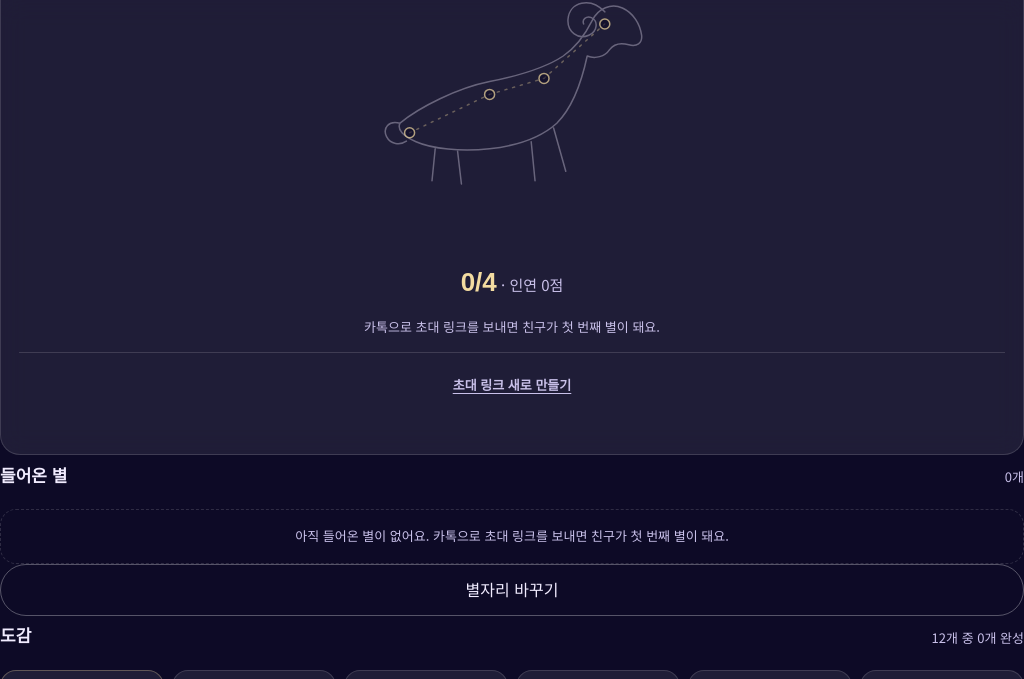
Test case: BondsView invites in one go (owner 2026-10-23, the 2026-10-02 decision: no codes to copy, make or type) › 초대 링크 새로 만들기 asks first, then makes a new link and loads the page again so the buttons send it
(page scrolled)
Click the button "초대 링크 새로 만들기".
click(512, 385)  # box [441,363,583,407]
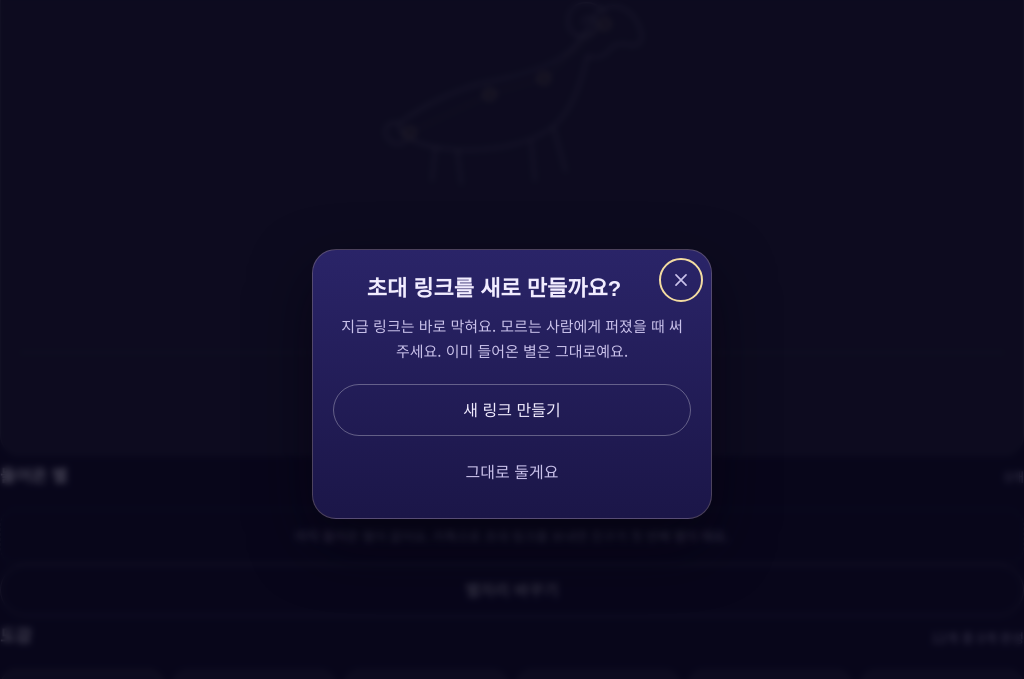
Check: the dialog "초대 링크를 새로 만들까요?" shows "지금 링크는 바로 막혀요", box [341,315,683,361]
Click the button "새 링크 만들기".
click(512, 410)  # box [333,384,691,436]
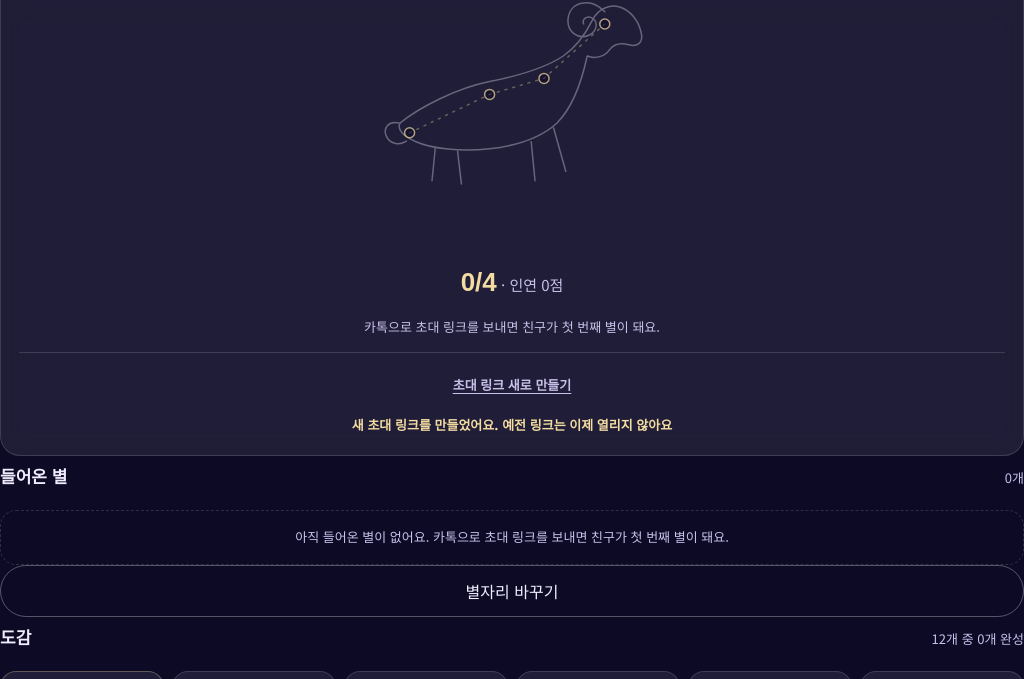
Check: the text "새 초대 링크를 만들었어요. 예전 링크는 이제 열리지 않아요" is shown, box [352,415,672,435]
